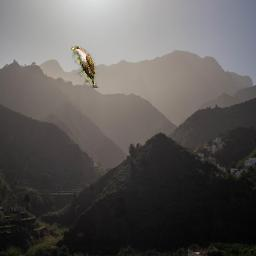Cuckoo: (71, 46, 99, 88)
